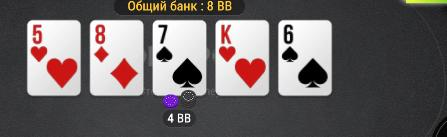5h: (29, 22, 79, 95)
6s: (279, 22, 331, 94)
7s: (154, 21, 205, 94)
8d: (91, 21, 142, 95)
Kh: (217, 22, 268, 95)
